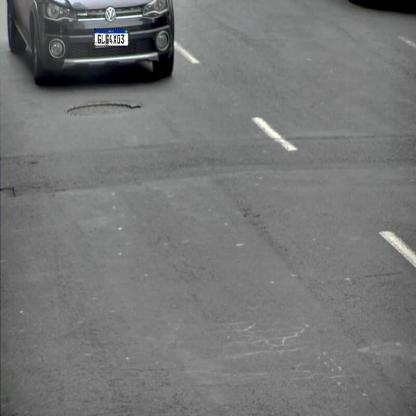PlacaM: (94, 29, 129, 46)
